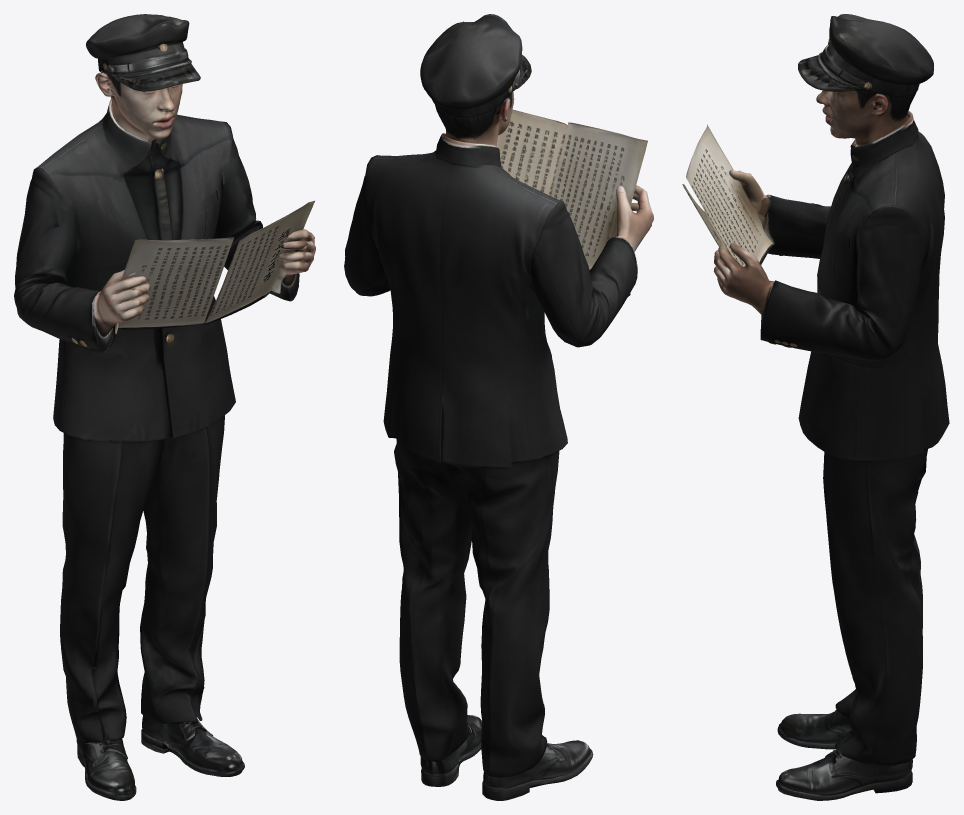
File: man-aceb7ff521.glb
3 renders of one model, left to right at view 1: azimuth 30°, elevation 25°; view 2: azimuth 150°, elevation 25°; view 3: azimuth 270°, elevation 25°, orthographic.
Visible parts, largest first — view 1: tripo_node_af903f7a-705e-41b3-9d4c-2eafeffa17e3; view 2: tripo_node_af903f7a-705e-41b3-9d4c-2eafeffa17e3; view 3: tripo_node_af903f7a-705e-41b3-9d4c-2eafeffa17e3.
Boxes of the visible parts, <box> form: tripo_node_af903f7a-705e-41b3-9d4c-2eafeffa17e3: <box>14,14,315,800</box>; tripo_node_af903f7a-705e-41b3-9d4c-2eafeffa17e3: <box>344,14,653,800</box>; tripo_node_af903f7a-705e-41b3-9d4c-2eafeffa17e3: <box>682,14,949,800</box>.
Size of the model in its own units: 0.3472 by 0.9995 by 0.3208.
1 material, 1 textured.
